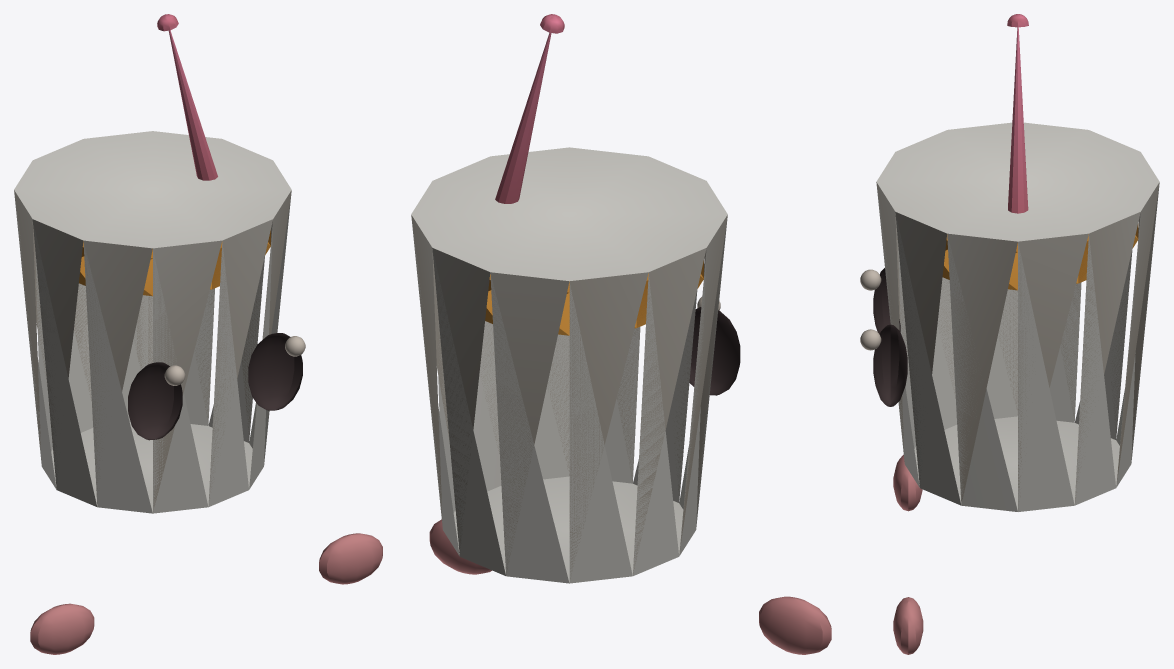
3 renders of one model, left to right at view 1: azimuth 30°, elevation 25°; view 2: azimuth 150°, elevation 25°; view 3: azimuth 270°, elevation 25°, orthographic. The views are drawn at different scales.
Visible parts, largest first — view 1: pet_p8e56373c; view 2: pet_p8e56373c; view 3: pet_p8e56373c.
Boxes of the visible parts, <box> form: pet_p8e56373c: <box>14,14,382,654</box>; pet_p8e56373c: <box>411,14,831,654</box>; pet_p8e56373c: <box>860,14,1159,654</box>.
Size of the model in its own units: 0.2932 by 0.4447 by 0.2114.
